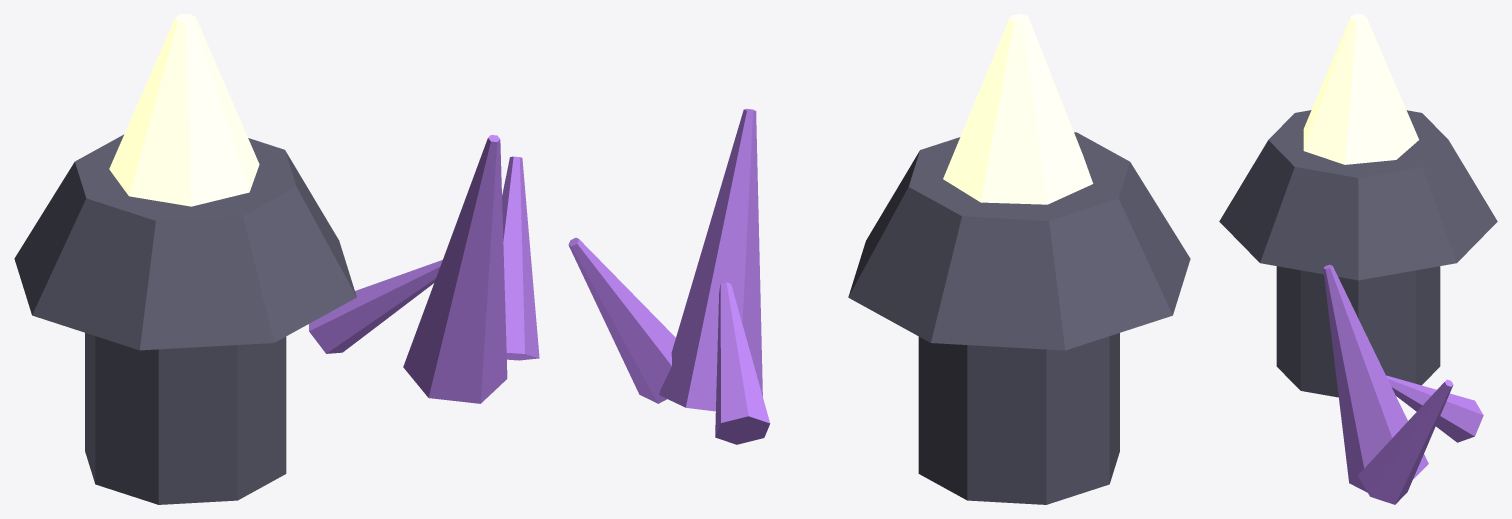
The model's file is Brazier.fbx.
The picture shows the model from 3 angles, left to right: view 1: azimuth 30°, elevation 25°; view 2: azimuth 150°, elevation 25°; view 3: azimuth 270°, elevation 25°; orthographic projection. The views are drawn at different scales.
Parts seen in each view (by area): view 1: Cone, Cylinder, Flame, Crys0, Crys1, Crys2; view 2: Cone, Cylinder, Flame, Crys0, Crys1, Crys2; view 3: Cone, Cylinder, Flame, Crys0, Crys1, Crys2.
Part boxes in pixels (x1,y1,x2,y2): Cone: [14, 134, 356, 350]; Cylinder: [85, 333, 286, 504]; Flame: [109, 14, 259, 206]; Crys0: [403, 135, 507, 403]; Crys1: [502, 156, 539, 360]; Crys2: [308, 260, 442, 353]; Cone: [848, 132, 1190, 350]; Cylinder: [918, 333, 1119, 504]; Flame: [943, 14, 1093, 204]; Crys0: [659, 108, 762, 411]; Crys1: [568, 237, 675, 403]; Crys2: [715, 282, 770, 444]; Cone: [1219, 110, 1497, 280]; Cylinder: [1276, 266, 1440, 397]; Flame: [1303, 14, 1418, 164]; Crys0: [1323, 264, 1428, 492]; Crys1: [1358, 379, 1453, 504]; Crys2: [1386, 375, 1483, 442].
Size of the model in its own units: 303 by 239 by 170.
